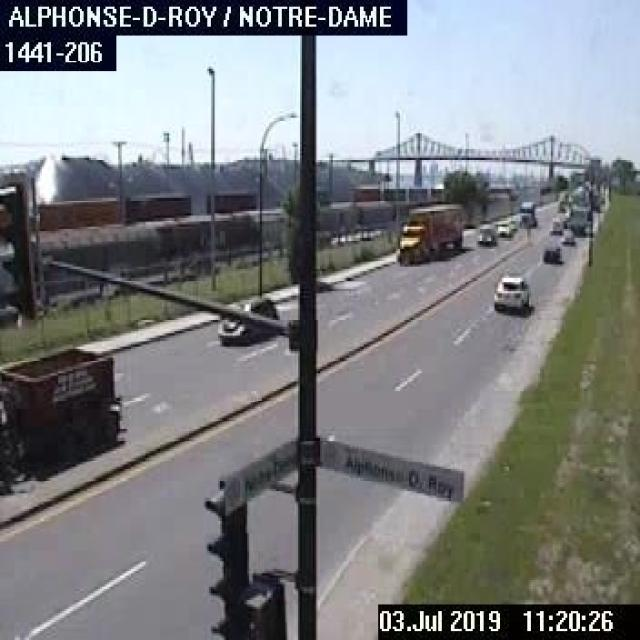vehicle: (0, 339, 116, 484), (396, 200, 466, 264), (214, 294, 281, 342), (491, 271, 528, 309), (517, 198, 538, 228), (541, 240, 561, 264), (476, 222, 495, 247), (494, 217, 511, 237), (548, 215, 563, 233), (560, 228, 574, 245)
